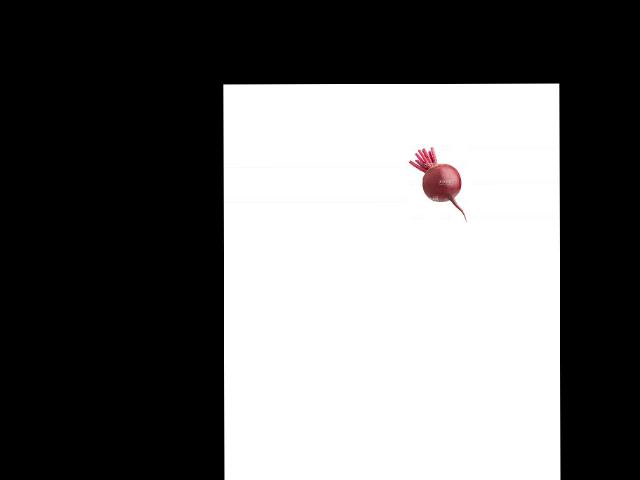beet: (408, 147, 466, 220)
